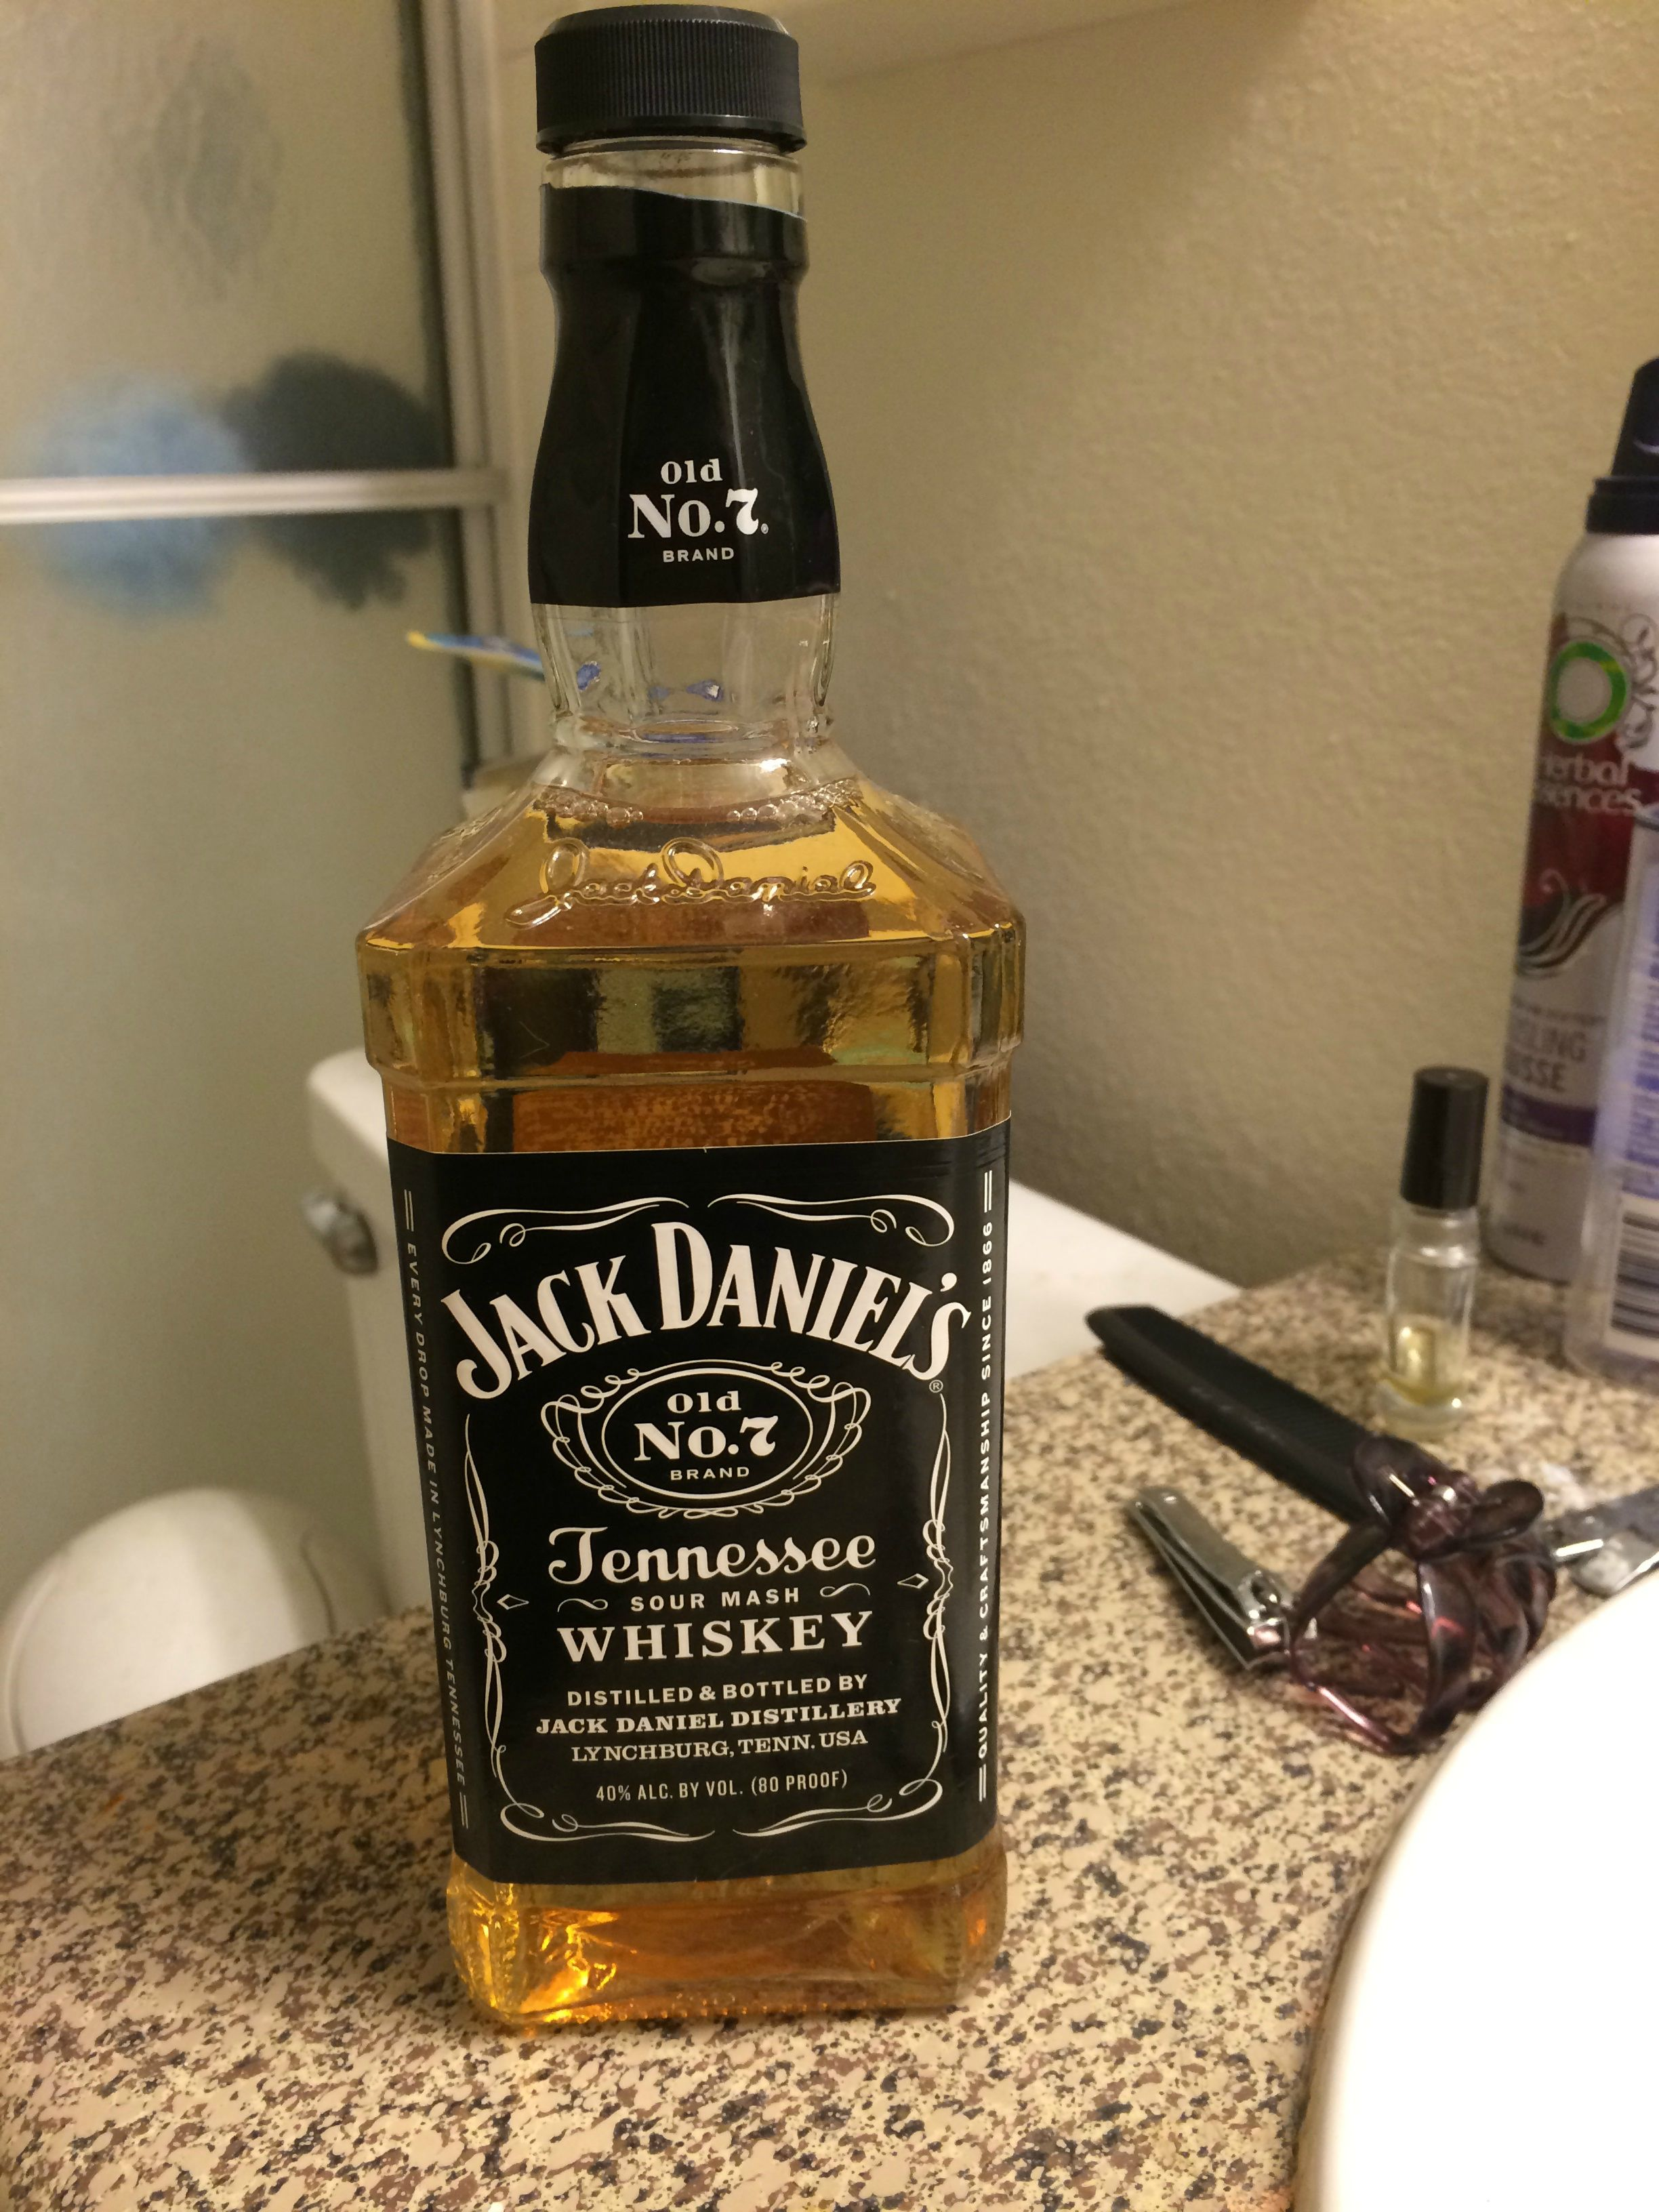Jack Daniel: (295, 2, 1093, 2071)
